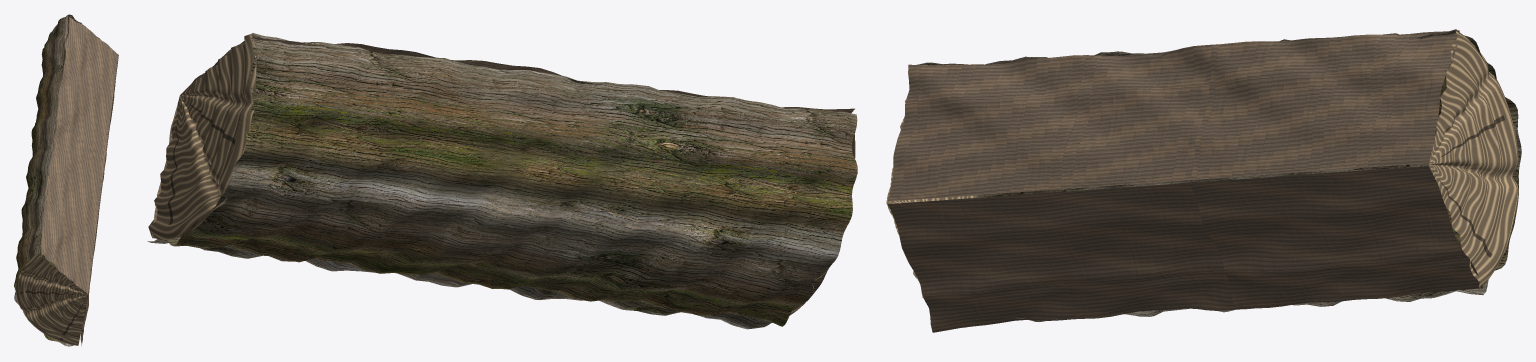
The model's file is fresno_seco_v004_candidate.glb.
The picture shows the model from 3 angles, left to right: view 1: azimuth 30°, elevation 25°; view 2: azimuth 150°, elevation 25°; view 3: azimuth 270°, elevation 25°; orthographic projection. The views are drawn at different scales.
Parts seen in each view (by area): view 1: Split seasoned fresno - continuous bark / fibre / endgrain; view 2: Split seasoned fresno - continuous bark / fibre / endgrain; view 3: Split seasoned fresno - continuous bark / fibre / endgrain.
Part boxes in pixels (x1,y1,x2,y2): Split seasoned fresno - continuous bark / fibre / endgrain: (14, 14, 118, 346); Split seasoned fresno - continuous bark / fibre / endgrain: (147, 33, 857, 329); Split seasoned fresno - continuous bark / fibre / endgrain: (886, 29, 1521, 332).
Size of the model in its own units: 0.3614 by 0.3235 by 0.4447.
Materials: 3 (3 with a texture image).
